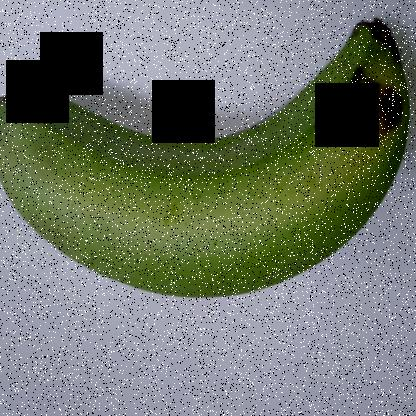freshunripe: (0, 7, 414, 329)
